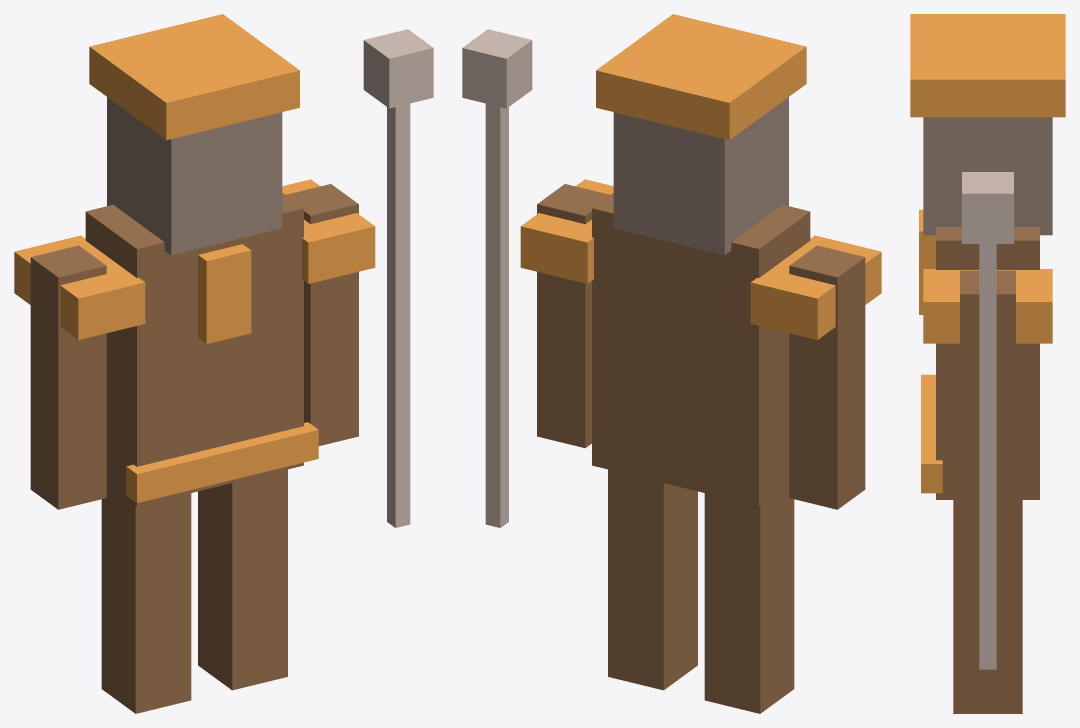
The model's file is 05_asha_brightlock_marshal_of_ember.glb.
3 renders of one model, left to right at view 1: azimuth 30°, elevation 25°; view 2: azimuth 150°, elevation 25°; view 3: azimuth 270°, elevation 25°, orthographic.
Visible parts, largest first — view 1: Asha Brightlock, Marshal of Ember; view 2: Asha Brightlock, Marshal of Ember; view 3: Asha Brightlock, Marshal of Ember.
Part boxes in pixels (x1,y1,x2,y2): Asha Brightlock, Marshal of Ember: (14, 14, 433, 713); Asha Brightlock, Marshal of Ember: (462, 14, 881, 713); Asha Brightlock, Marshal of Ember: (910, 14, 1065, 713).
Bounding box in the file's own units: 1.06 × 1.68 × 0.3752.
